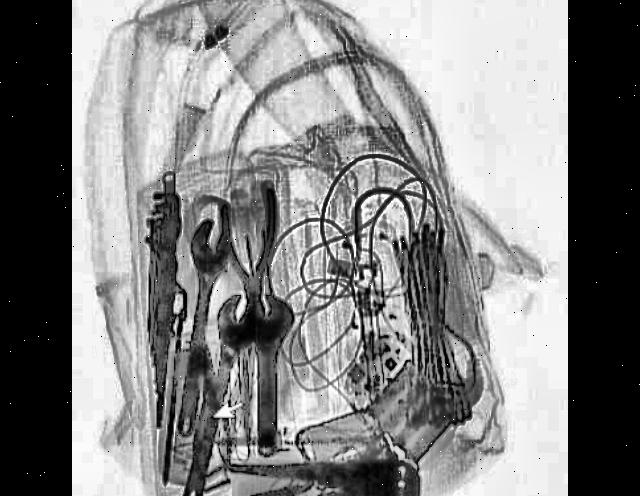Pliers: (217, 188, 279, 344), (217, 454, 420, 496)
Wrench: (164, 287, 265, 496), (158, 218, 232, 445), (240, 293, 292, 459)
